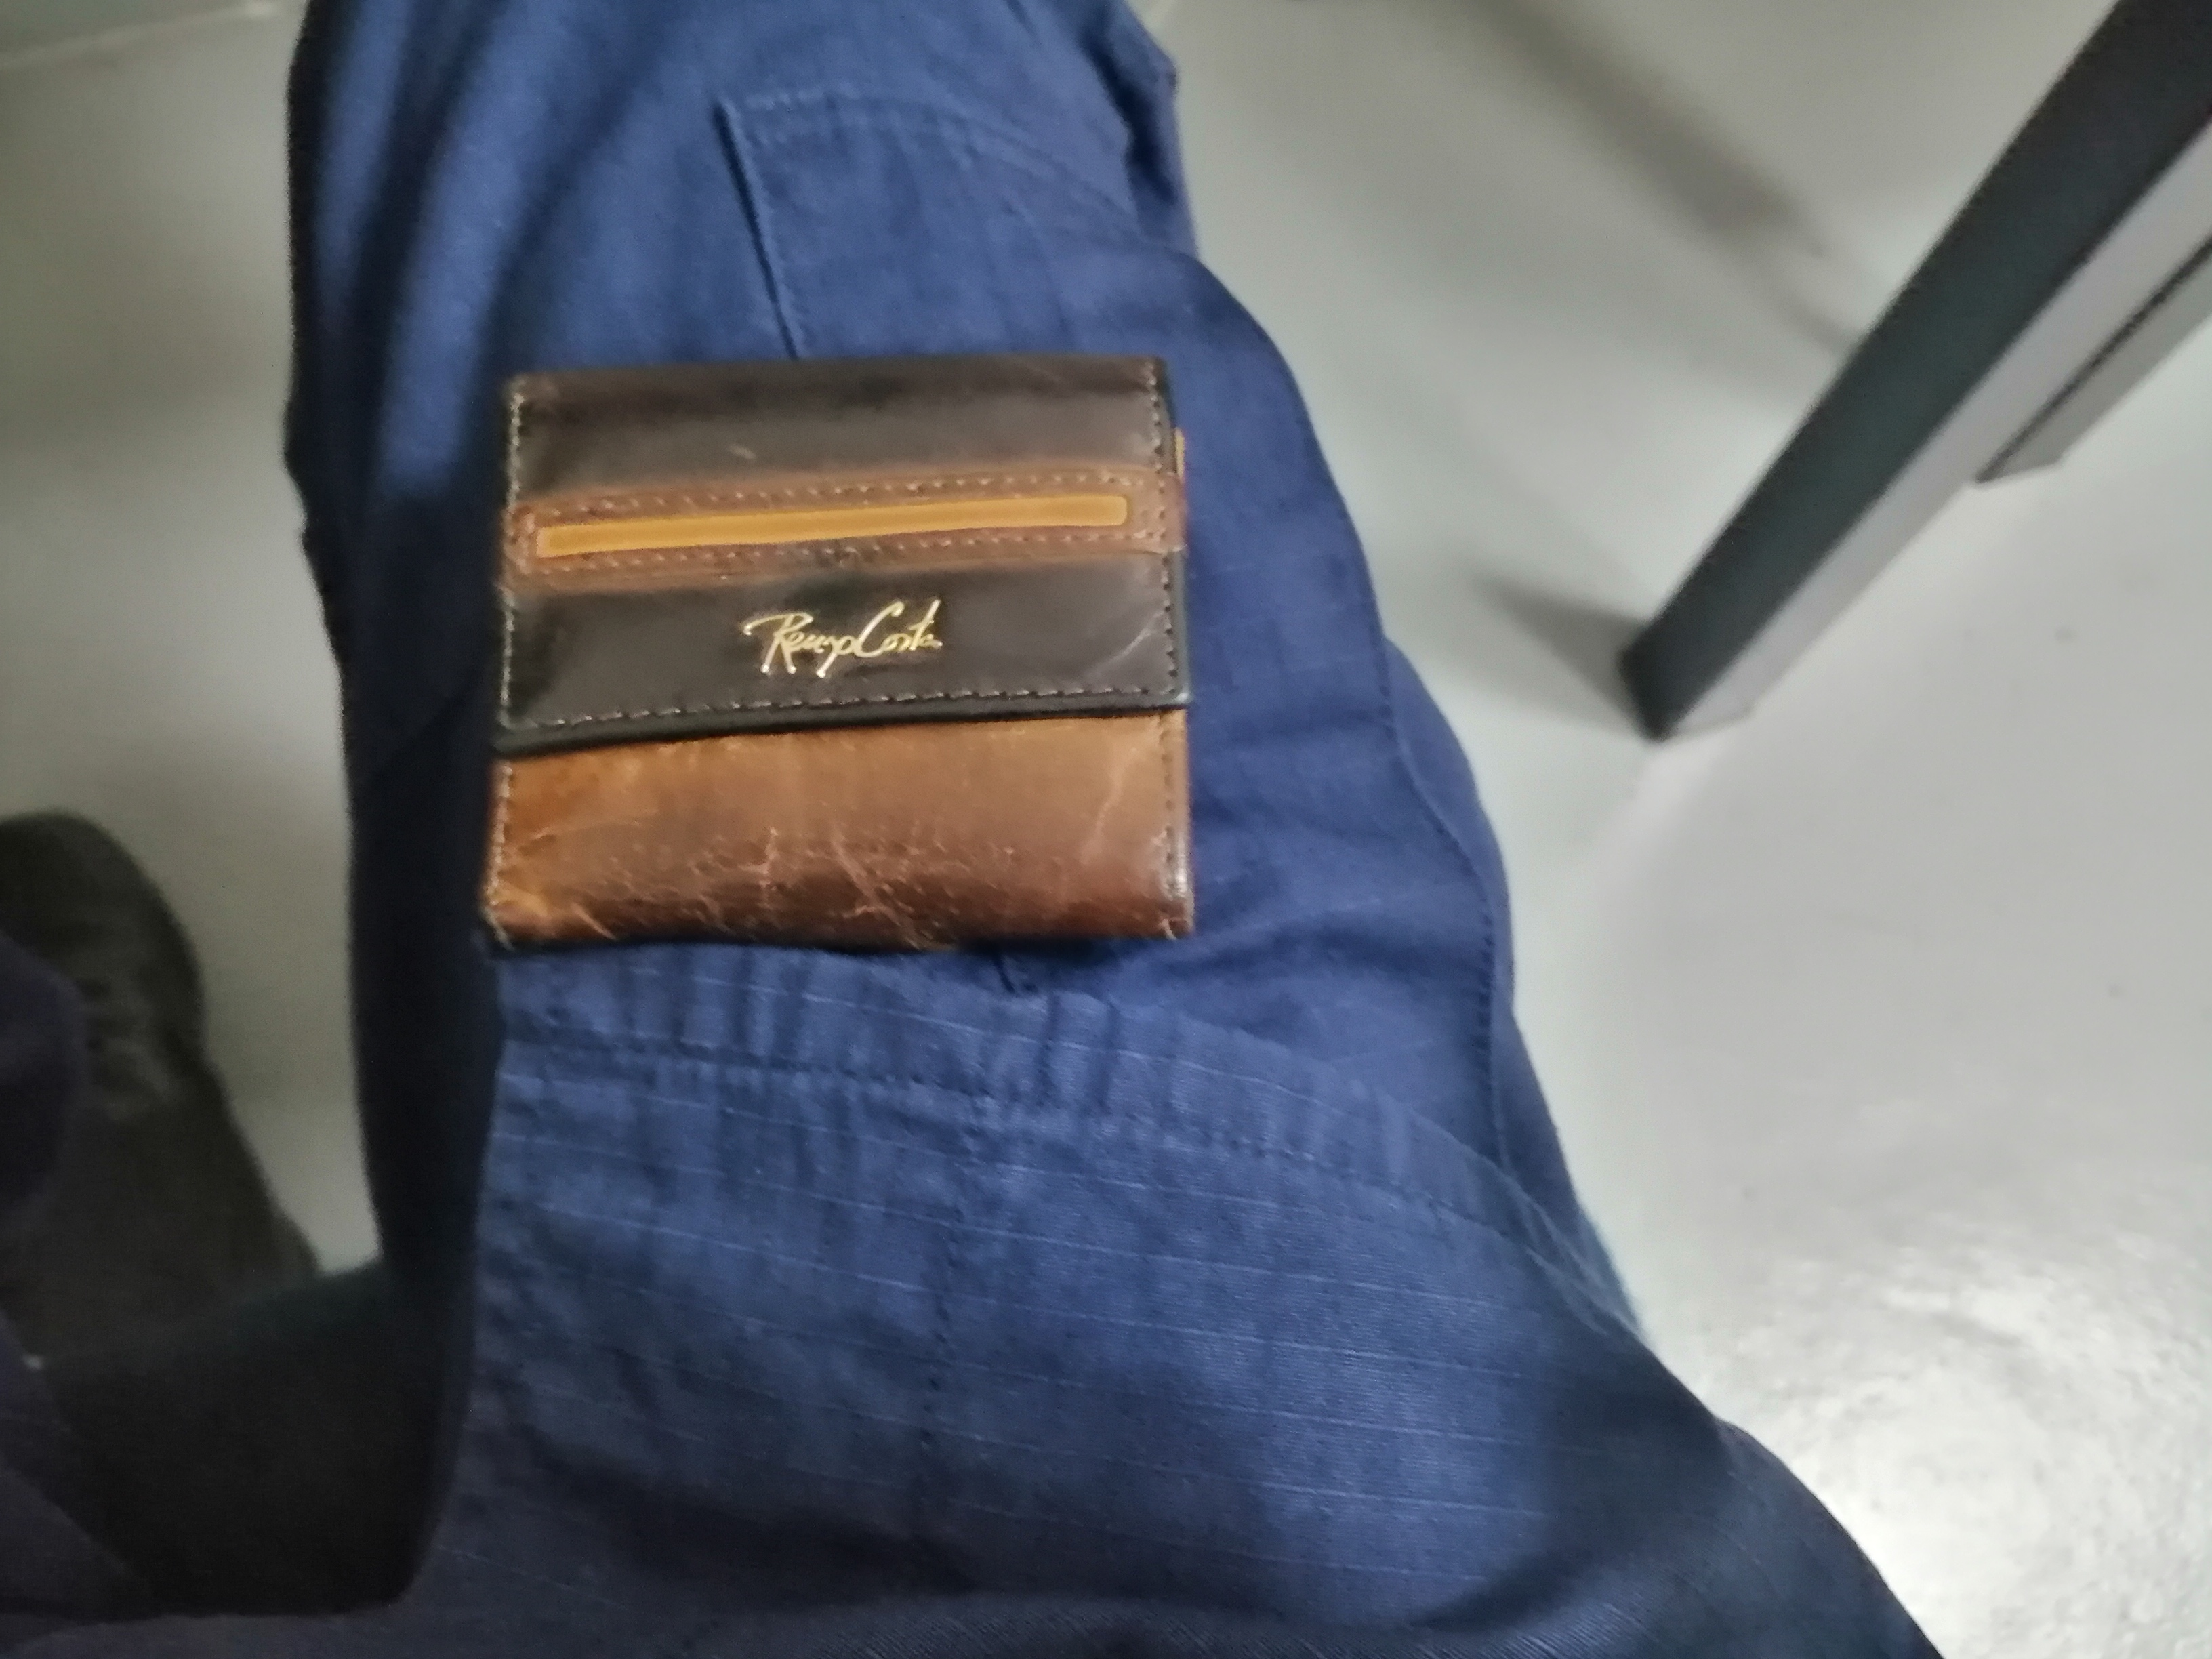monedero: (449, 338, 1224, 972)
